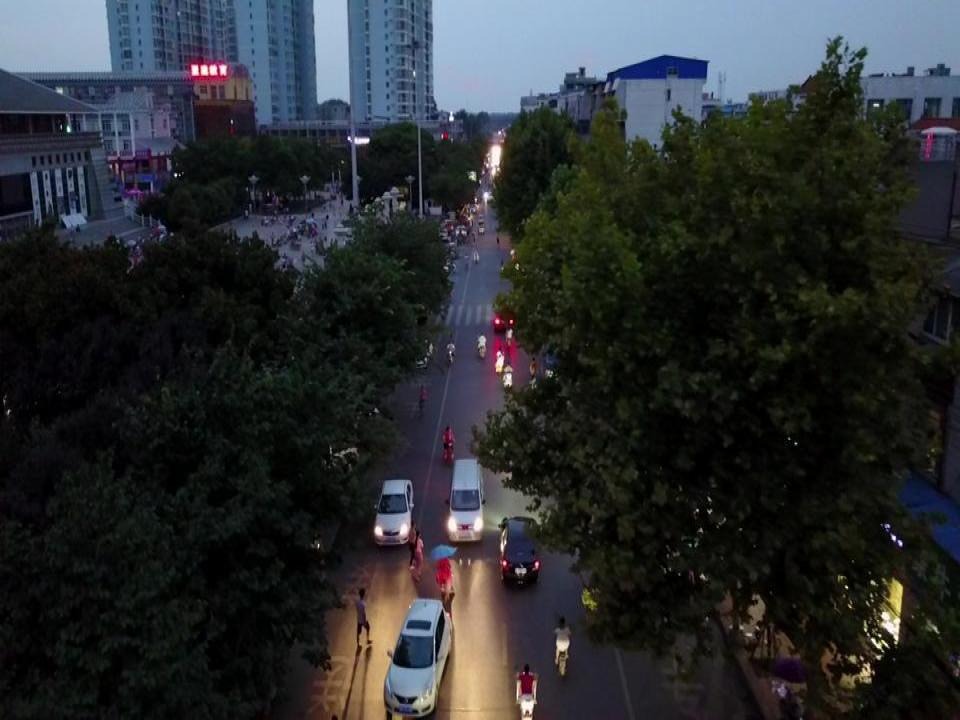car: (383, 597, 453, 719), (498, 514, 541, 586), (301, 431, 360, 481), (372, 478, 415, 546), (410, 338, 434, 366), (439, 218, 454, 231), (455, 224, 467, 237), (468, 204, 477, 215)
van: (444, 457, 485, 543)
